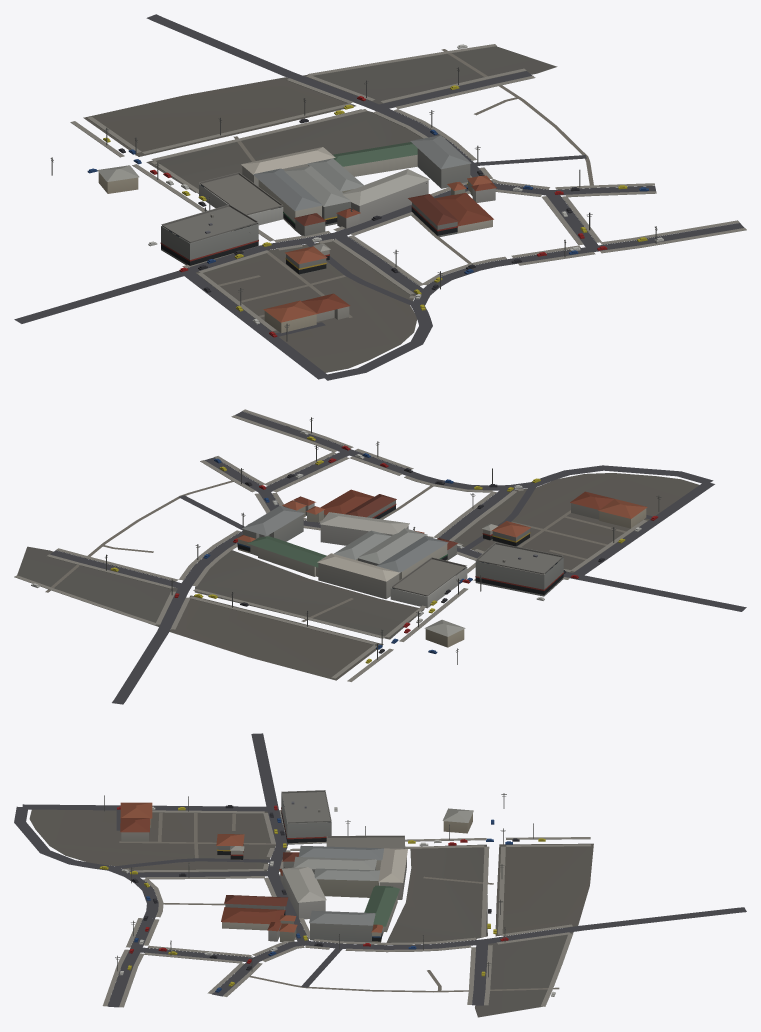
3 renders of one model, top to bottom at view 1: azimuth 30°, elevation 25°; view 2: azimuth 150°, elevation 25°; view 3: azimuth 270°, elevation 25°, orthographic. The views are drawn at different scales.
Parts seen in each view (by area): view 1: Landuse__r-20c-8, Buildings__r-20c-8-col, Roads_Minor__r-20c-8, Sidewalks__r-20c-8-col, Santo Niño Parish-col, Props_Solid__r-20c-8-col, Suba Basketball Court-col, Footways__r-20c-8, Bahay Pamahalaan ng Barangay Pasil-col, Bahay Pamahalaan ng Barangay Suba-col; view 2: Landuse__r-20c-8, Buildings__r-20c-8-col, Roads_Minor__r-20c-8, Sidewalks__r-20c-8-col, Santo Niño Parish-col, Suba Basketball Court-col, Props_Solid__r-20c-8-col, Footways__r-20c-8, Bahay Pamahalaan ng Barangay Pasil-col, Bahay Pamahalaan ng Barangay Suba-col; view 3: Landuse__r-20c-8, Buildings__r-20c-8-col, Roads_Minor__r-20c-8, Sidewalks__r-20c-8-col, Santo Niño Parish-col, Props_Solid__r-20c-8-col, Footways__r-20c-8, Suba Basketball Court-col, Bahay Pamahalaan ng Barangay Pasil-col.
Boxes of the visible parts, x1,y1,x2,y2 form: Landuse__r-20c-8: (83, 46, 557, 372); Buildings__r-20c-8-col: (97, 135, 496, 333); Roads_Minor__r-20c-8: (14, 14, 744, 380); Sidewalks__r-20c-8-col: (70, 44, 746, 331); Santo Niño Parish-col: (160, 204, 258, 265); Props_Solid__r-20c-8-col: (51, 44, 663, 341); Suba Basketball Court-col: (199, 172, 283, 225); Footways__r-20c-8: (218, 49, 593, 317); Bahay Pamahalaan ng Barangay Pasil-col: (408, 194, 458, 237); Bahay Pamahalaan ng Barangay Suba-col: (285, 246, 327, 274); Landuse__r-20c-8: (17, 473, 699, 680); Buildings__r-20c-8-col: (237, 489, 647, 647); Roads_Minor__r-20c-8: (50, 411, 746, 704); Sidewalks__r-20c-8-col: (14, 409, 647, 681); Santo Niño Parish-col: (475, 542, 563, 596); Suba Basketball Court-col: (390, 557, 467, 608); Props_Solid__r-20c-8-col: (31, 417, 659, 664); Footways__r-20c-8: (45, 480, 626, 621); Bahay Pamahalaan ng Barangay Pasil-col: (345, 494, 396, 518); Bahay Pamahalaan ng Barangay Suba-col: (491, 521, 530, 546); Landuse__r-20c-8: (29, 809, 593, 1017); Buildings__r-20c-8-col: (120, 802, 473, 942); Roads_Minor__r-20c-8: (14, 733, 746, 1007); Sidewalks__r-20c-8-col: (102, 810, 591, 1007); Santo Niño Parish-col: (281, 790, 331, 844); Props_Solid__r-20c-8-col: (99, 793, 555, 996); Footways__r-20c-8: (119, 812, 559, 992); Suba Basketball Court-col: (326, 835, 405, 848); Bahay Pamahalaan ng Barangay Pasil-col: (224, 895, 288, 915).
Size of the model in its own units: 367 by 13.79 by 401.
